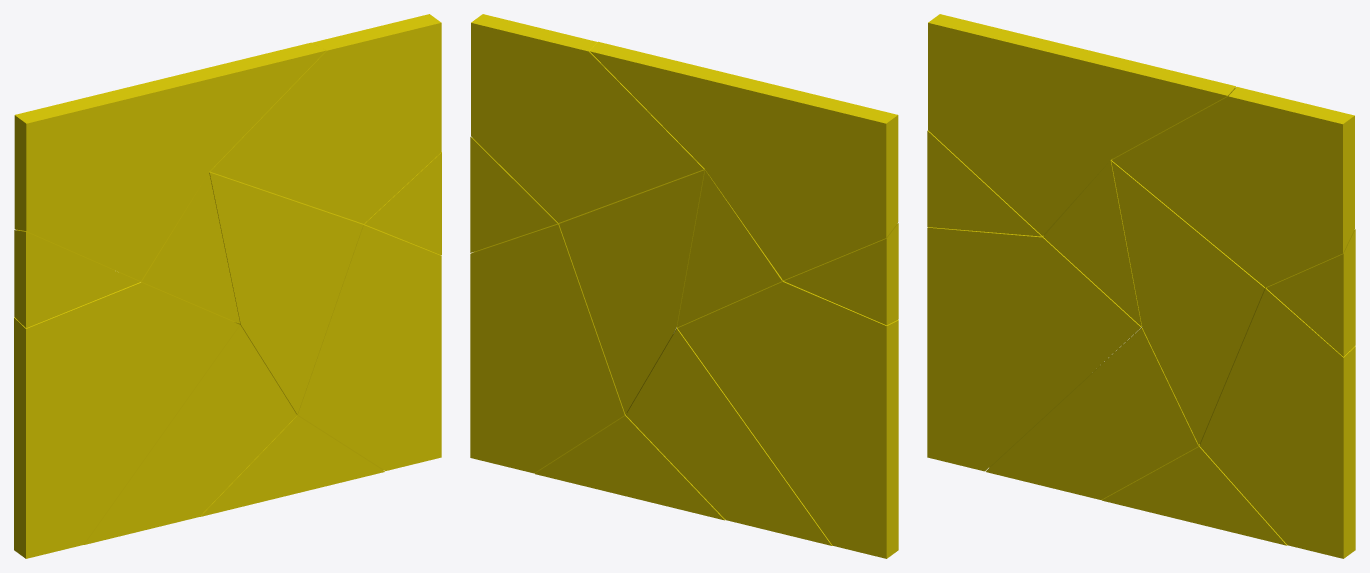
File: WAll_300x300_Destructable.fbx
The picture shows the model from 3 angles, left to right: view 1: azimuth 30°, elevation 25°; view 2: azimuth 150°, elevation 25°; view 3: azimuth 330°, elevation 25°; orthographic projection.
Parts seen in each view (by area): view 1: polySurface12, polySurface18, polySurface13, polySurface14, polySurface17, polySurface19, polySurface21, polySurface20, polySurface15, polySurface16; view 2: polySurface12, polySurface18, polySurface13, polySurface14, polySurface17, polySurface19, polySurface21, polySurface20, polySurface15, polySurface16; view 3: polySurface18, polySurface12, polySurface13, polySurface14, polySurface17, polySurface19, polySurface21, polySurface20, polySurface15, polySurface16.
Boxes of the visible parts, x1,y1,x2,y2 form: polySurface12: (14, 282, 239, 558); polySurface18: (14, 42, 326, 280); polySurface13: (210, 14, 441, 223); polySurface14: (297, 221, 441, 470); polySurface17: (209, 171, 363, 414); polySurface19: (83, 325, 296, 544); polySurface21: (200, 415, 384, 516); polySurface20: (119, 172, 240, 323); polySurface15: (14, 230, 139, 328); polySurface16: (364, 152, 441, 255); polySurface12: (677, 280, 898, 558); polySurface18: (589, 41, 898, 280); polySurface13: (471, 14, 704, 222); polySurface14: (470, 223, 624, 473); polySurface17: (559, 169, 704, 414); polySurface19: (626, 327, 832, 545); polySurface21: (534, 413, 725, 520); polySurface20: (677, 170, 782, 327); polySurface15: (783, 223, 898, 325); polySurface16: (470, 137, 557, 252); polySurface18: (928, 14, 1235, 235); polySurface12: (927, 227, 1141, 471); polySurface13: (1112, 87, 1354, 287); polySurface14: (1199, 287, 1355, 558); polySurface17: (1111, 160, 1264, 444); polySurface19: (986, 327, 1198, 499); polySurface21: (1101, 444, 1287, 545); polySurface20: (1043, 159, 1141, 326); polySurface15: (927, 130, 1041, 236); polySurface16: (1266, 229, 1355, 356).
Bounding box in the file's own units: 301 × 301 × 15.46.
